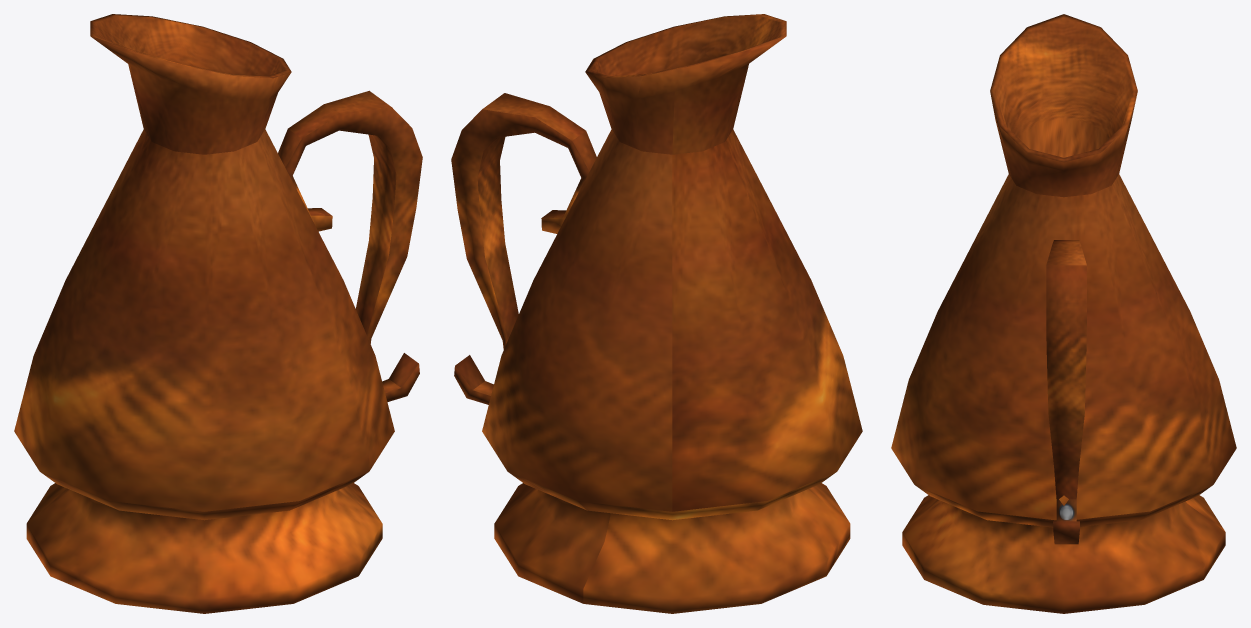
The model's file is Pitcher.fbx.
3 views of the same model, side by side, from view 1: azimuth 30°, elevation 25°; view 2: azimuth 150°, elevation 25°; view 3: azimuth 270°, elevation 25° (orthographic). The views are drawn at different scales.
Visible parts, largest first — view 1: Pitcher_LOD0; view 2: Pitcher_LOD0; view 3: Pitcher_LOD0.
Part boxes in pixels (<box>): Pitcher_LOD0: <box>14,14,422,613</box>; Pitcher_LOD0: <box>451,14,862,613</box>; Pitcher_LOD0: <box>891,14,1236,613</box>.
Size of what is drawn, in the model's own units: 60.01 by 81.32 by 52.85.
